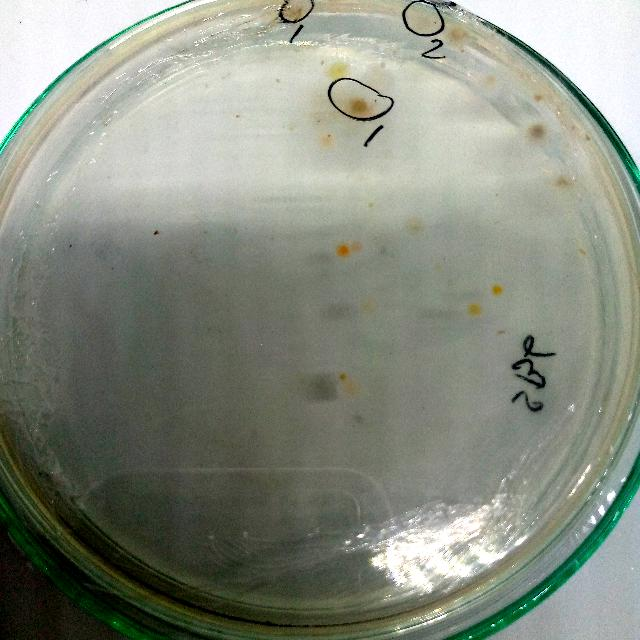colony: (299, 368, 341, 408), (522, 119, 550, 149), (476, 66, 506, 94), (408, 9, 438, 36), (346, 94, 374, 122), (328, 56, 350, 84), (550, 173, 576, 195), (446, 24, 470, 46), (281, 2, 301, 26), (319, 132, 339, 154), (466, 302, 486, 321), (406, 216, 426, 234), (489, 280, 506, 298), (335, 242, 353, 258), (532, 90, 546, 106), (348, 238, 362, 252), (336, 370, 350, 384), (232, 110, 244, 122), (151, 228, 161, 238), (275, 77, 283, 85)
